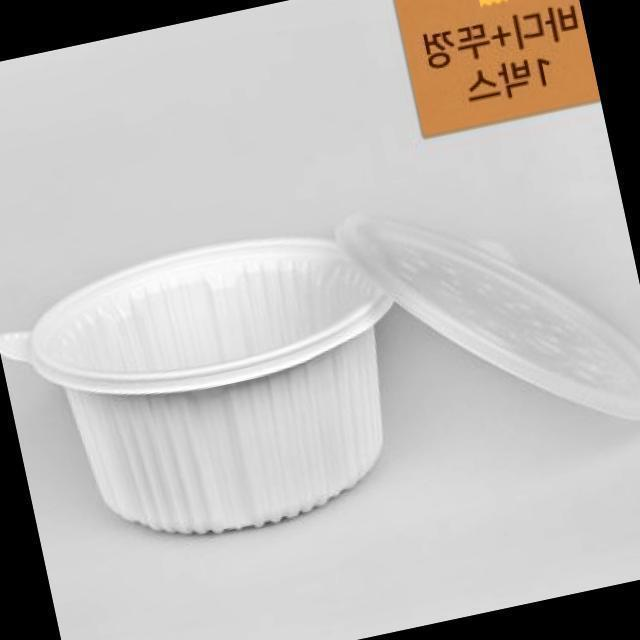disposable: (0, 223, 433, 540)
